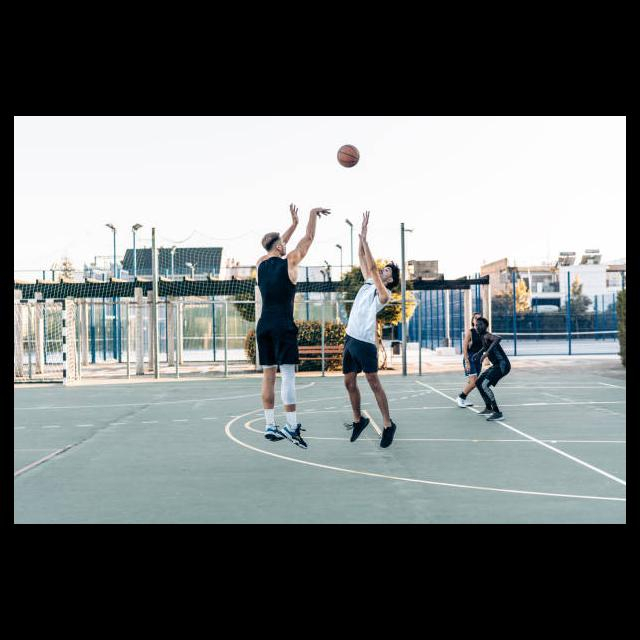basketball: (337, 144, 359, 167)
